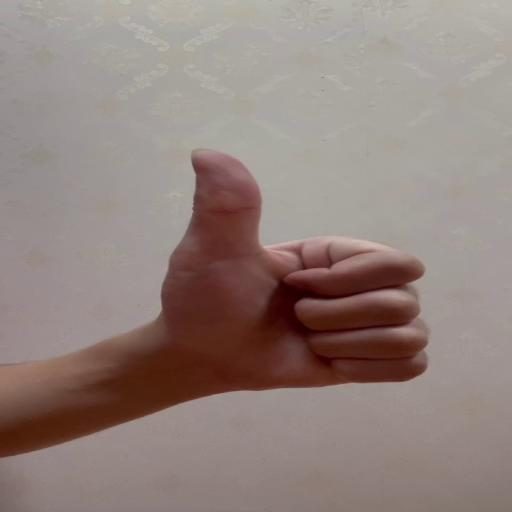thumbs_up: (162, 144, 432, 391)
